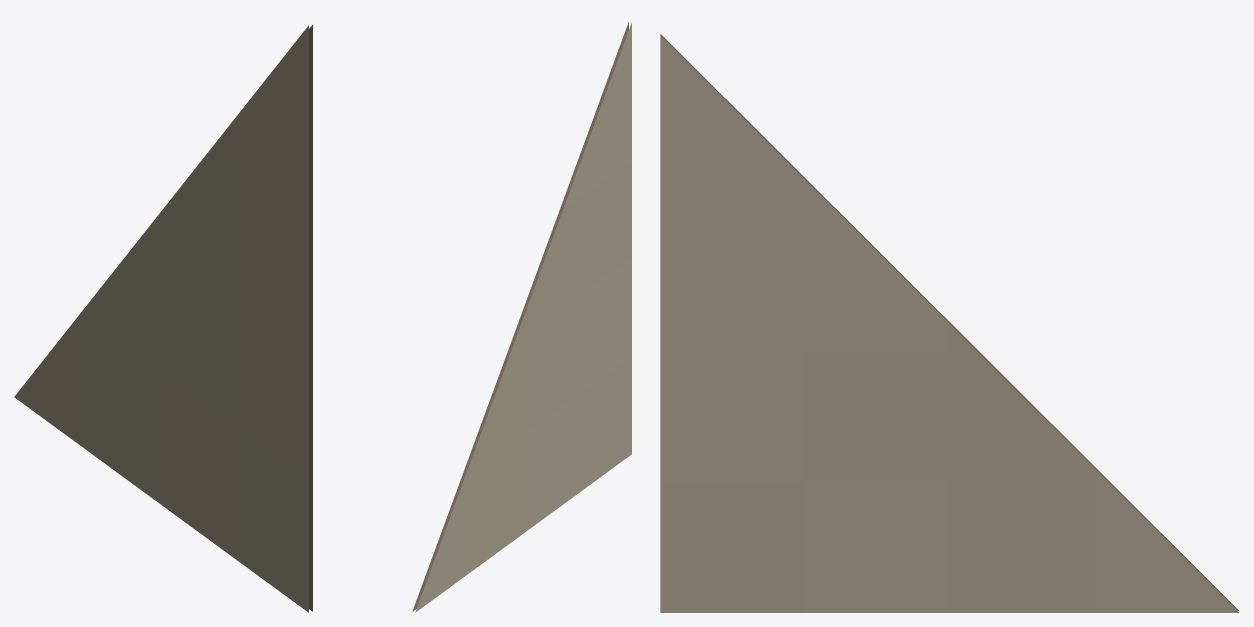
Rendered from wall-plaster-gable-l-steep.glb.
3 renders of one model, left to right at view 1: azimuth 30°, elevation 25°; view 2: azimuth 150°, elevation 25°; view 3: azimuth 270°, elevation 25°, orthographic. The views are drawn at different scales.
Visible parts, largest first — view 1: wall-plaster-gable-l-steep; view 2: wall-plaster-gable-l-steep; view 3: wall-plaster-gable-l-steep.
Part boxes in pixels (x1,y1,x2,y2): wall-plaster-gable-l-steep: (14,24,312,612); wall-plaster-gable-l-steep: (412,22,631,612); wall-plaster-gable-l-steep: (660,34,1238,612).
Bounding box in the file's own units: 0.088 × 1.1 × 1.
